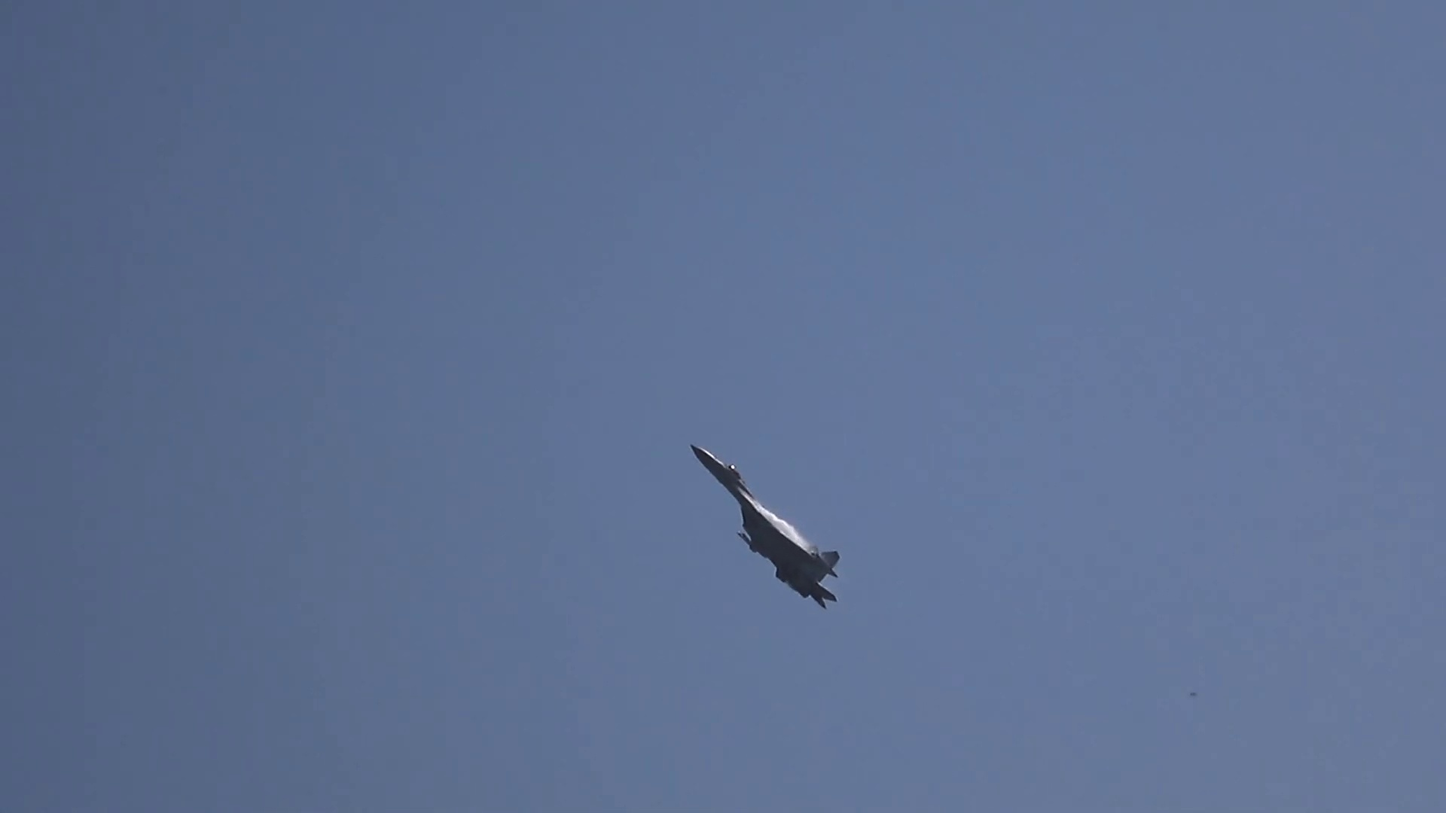Su35: (689, 443, 840, 610)
